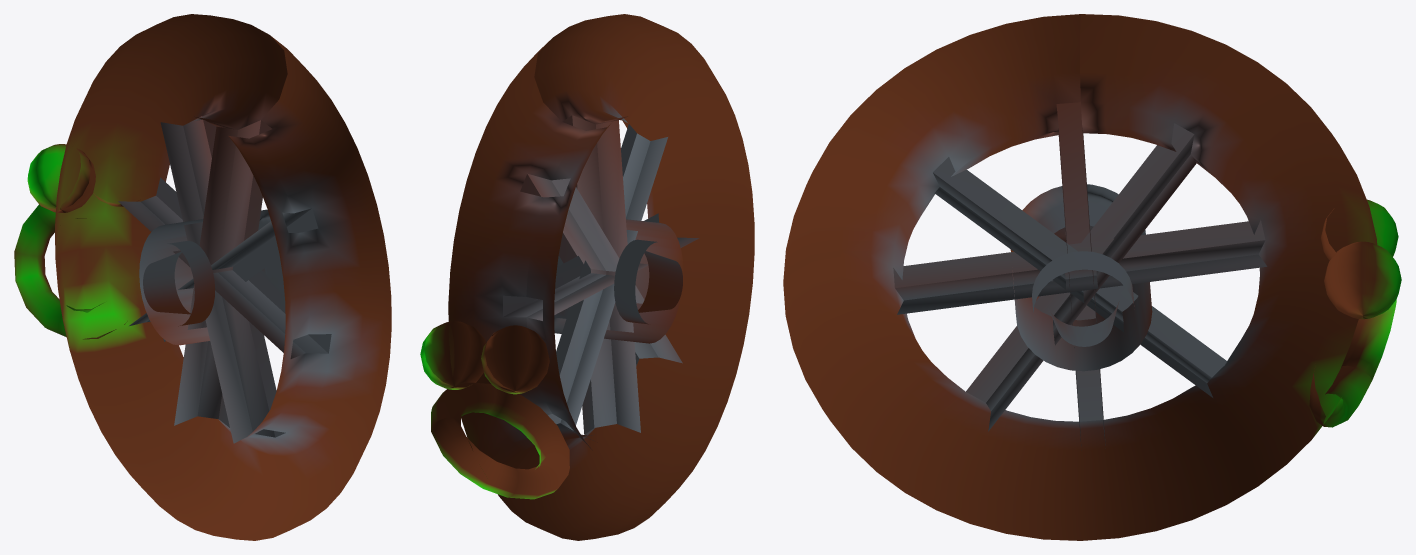
Rendered from pain.glb.
3 renders of one model, left to right at view 1: azimuth 30°, elevation 25°; view 2: azimuth 150°, elevation 25°; view 3: azimuth 270°, elevation 25°, orthographic. The views are drawn at different scales.
Parts seen in each view (by area): view 1: Pain; view 2: Pain; view 3: Pain.
Part boxes in pixels (x1,y1,x2,y2): Pain: [14, 14, 391, 540]; Pain: [420, 14, 754, 540]; Pain: [783, 14, 1401, 540].
Size of the model in its own units: 0.6804 by 2 by 2.09.
